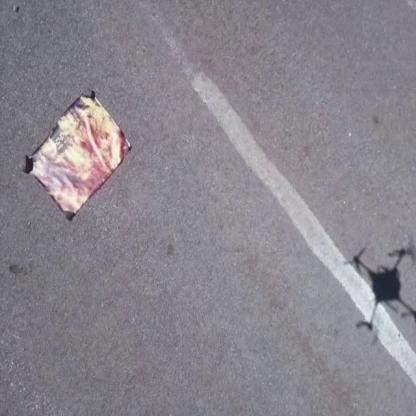fire-poster: (23, 88, 132, 222)
